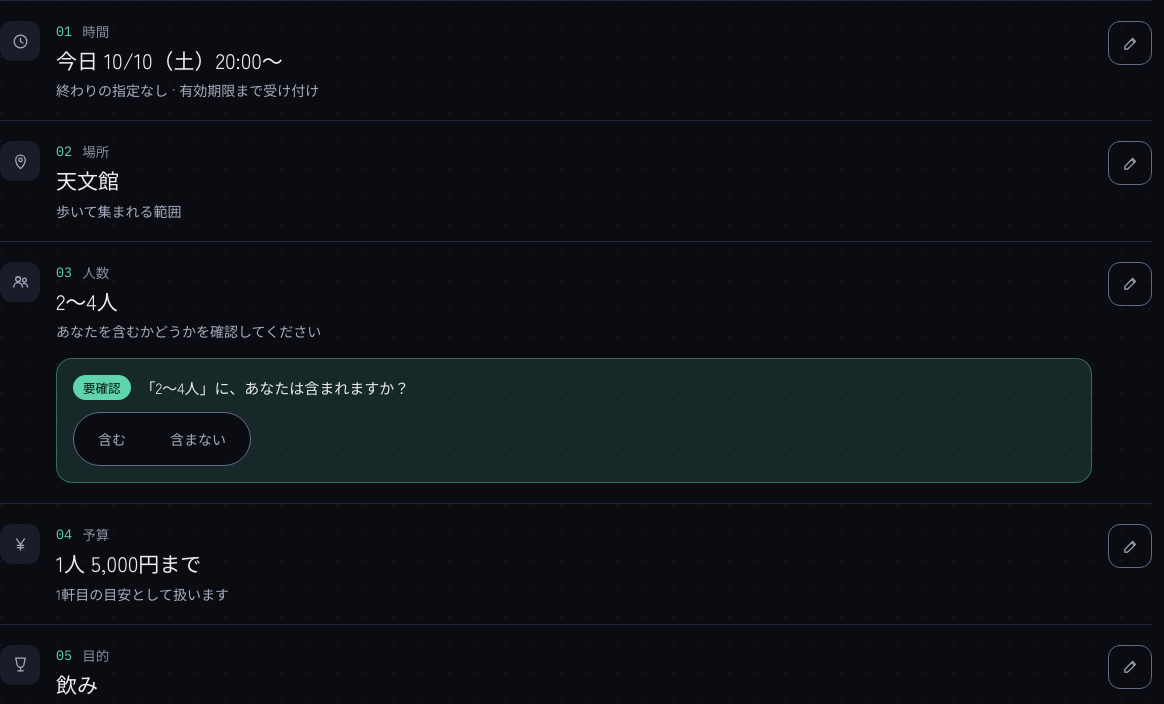
Test: 行編集(テキスト1行input・プロトタイプ02) › Escapeで取り消し(stateは不変)
The image size is (1164, 704).
Click the 2nd button with class "edit-button": (1130, 163) [1108,141,1152,185]
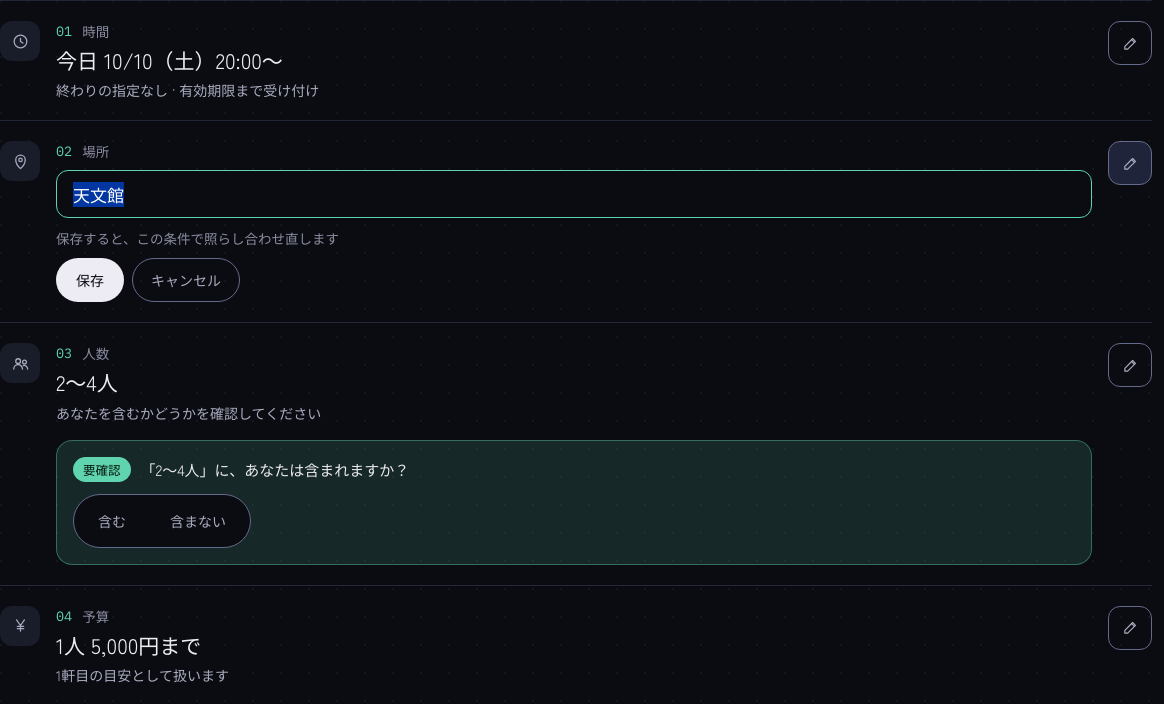
Replace the text in the field with "別の場所": (574, 194) [56,170,1092,218]
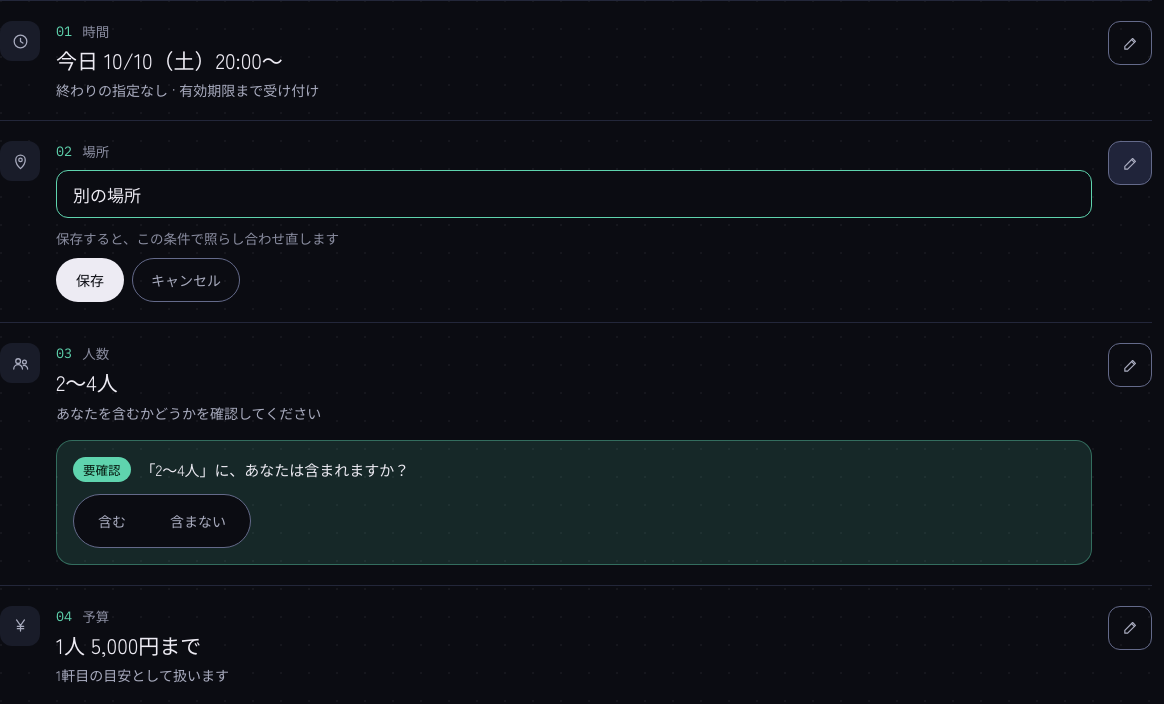
Press Escape in the field, box [56,170,1092,218]
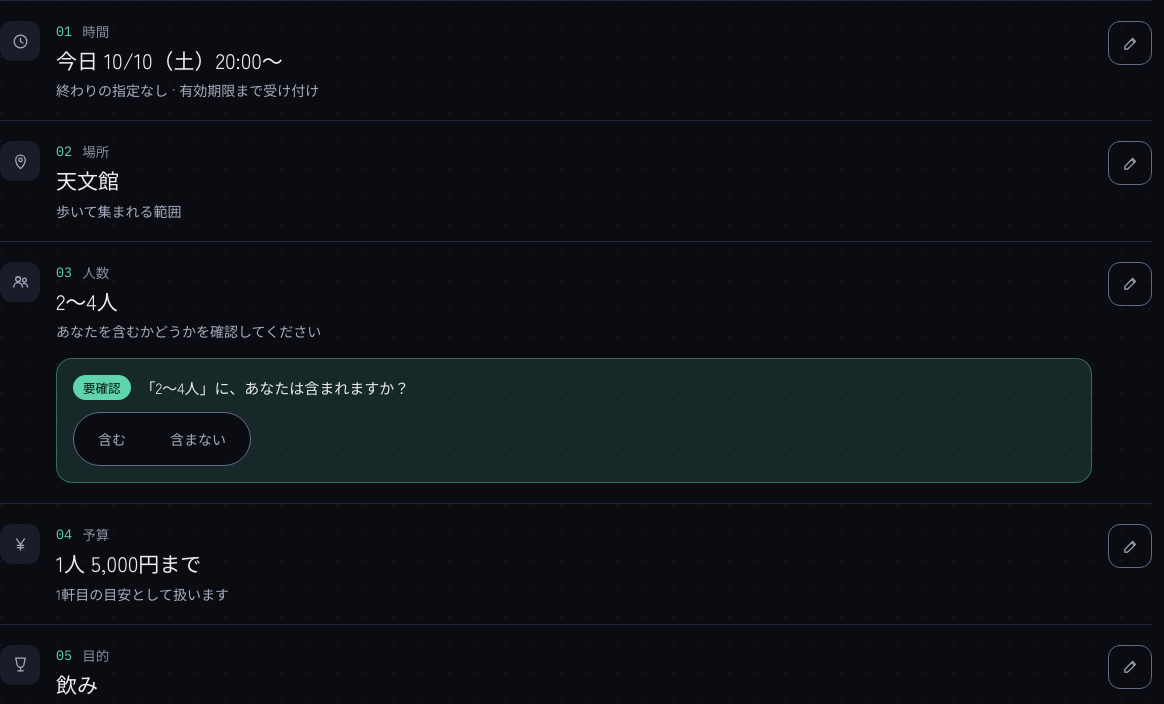
Result: the text "天文館" is shown at [56,165,119,195]
